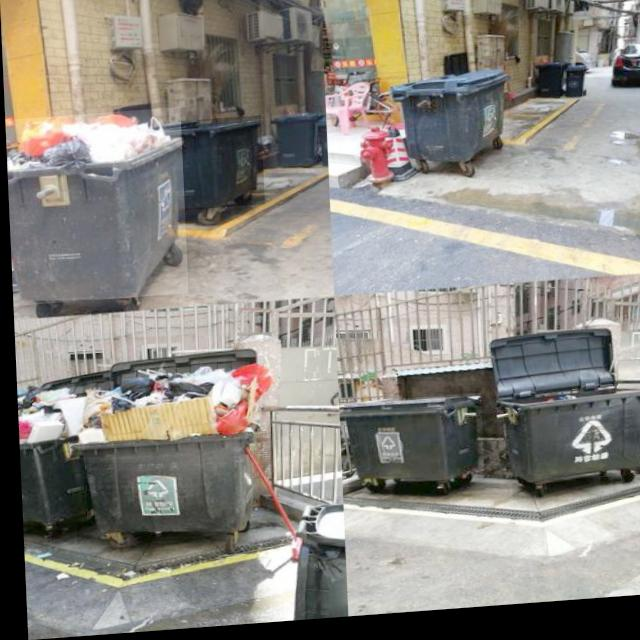garbage_bin: (493, 393, 640, 492), (334, 400, 480, 493), (389, 77, 509, 172), (162, 119, 263, 214), (271, 117, 318, 172), (532, 69, 561, 106), (563, 71, 583, 106)
overflow: (66, 362, 271, 545), (4, 110, 186, 306), (13, 382, 83, 526)
